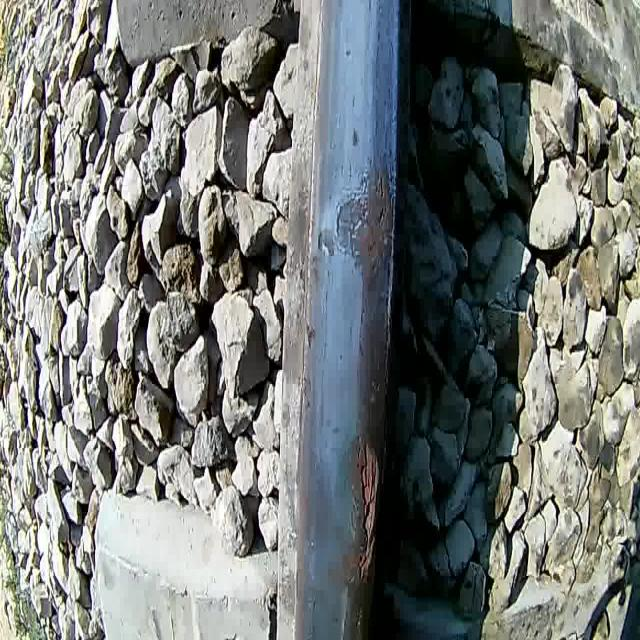Cracks: (333, 186, 366, 266)
Spallings: (353, 430, 383, 587), (372, 168, 388, 232)
Squats: (315, 152, 401, 298), (324, 424, 385, 598), (348, 304, 394, 419)
